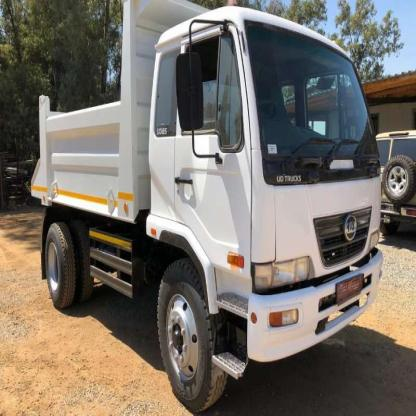dump_truck: (25, 5, 384, 406)
